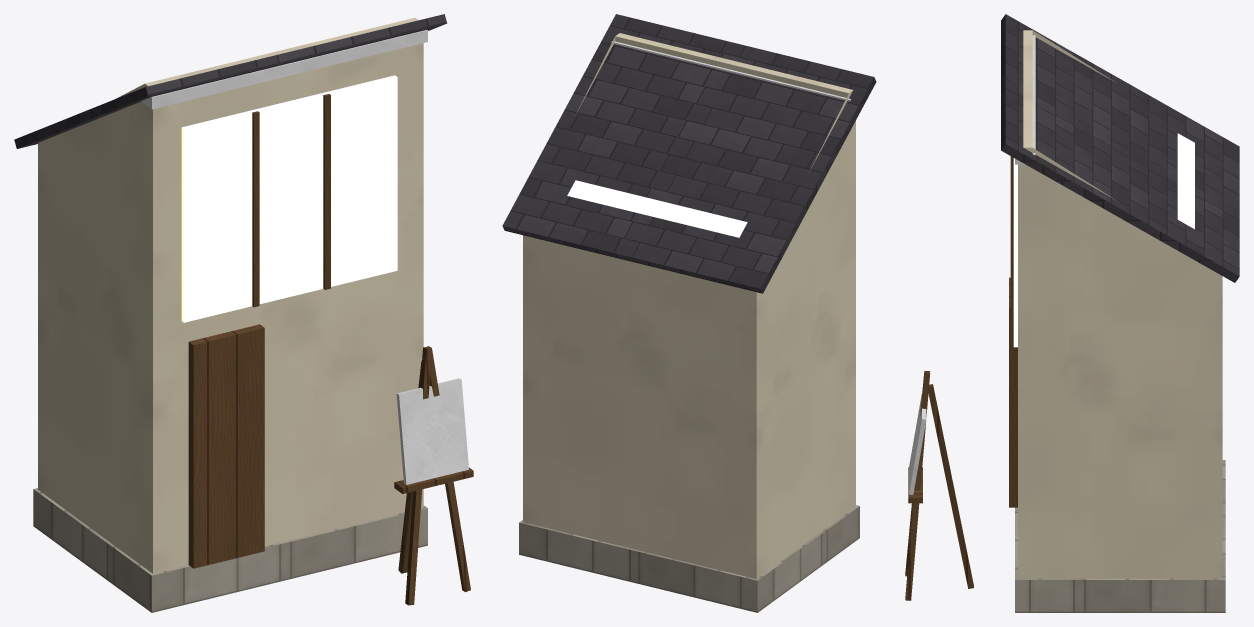
The model's file is protocol.blur.glb.
3 views of the same model, side by side, from view 1: azimuth 30°, elevation 25°; view 2: azimuth 150°, elevation 25°; view 3: azimuth 270°, elevation 25° (orthographic). The views are drawn at different scales.
Visible parts, largest first — view 1: building.protocol.blur; view 2: building.protocol.blur; view 3: building.protocol.blur.
Boxes of the visible parts, x1=… form: building.protocol.blur: x1=14, y1=14, x2=473, y2=612; building.protocol.blur: x1=502, y1=14, x2=876, y2=612; building.protocol.blur: x1=905, y1=14, x2=1239, y2=612.
Size of the model in its own units: 2.1 by 3.58 by 2.29.
7 materials, 6 textured.
